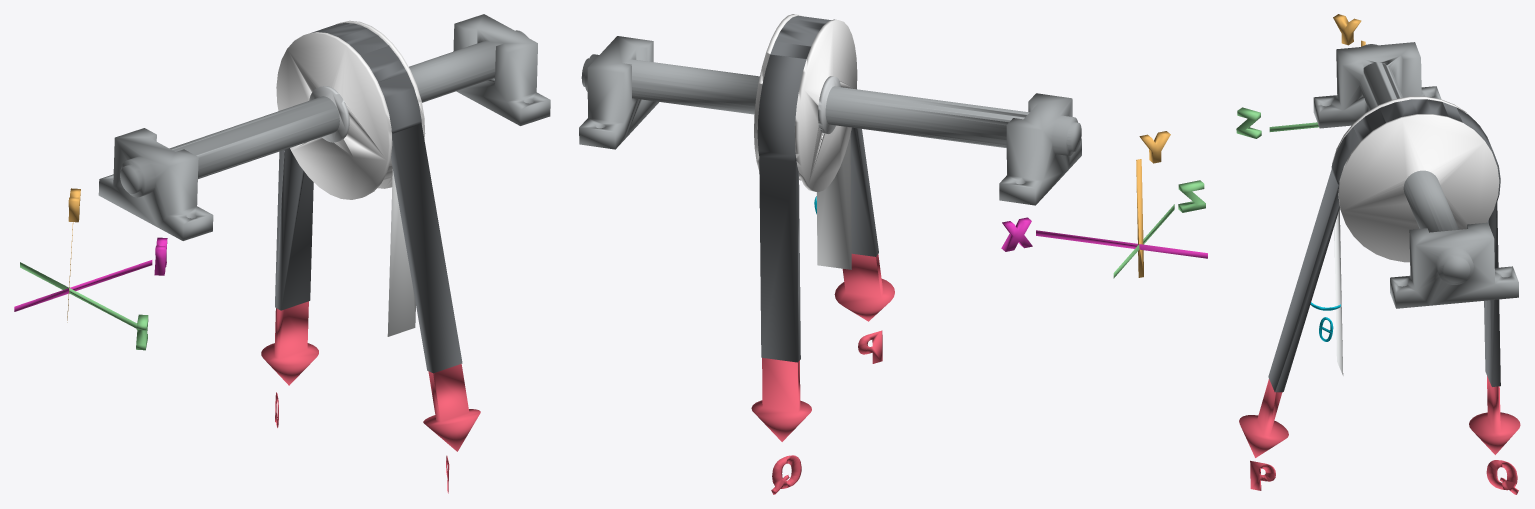
The model's file is U2_SinglePulleyALT.glb.
3 views of the same model, side by side, from view 1: azimuth 30°, elevation 25°; view 2: azimuth 150°, elevation 25°; view 3: azimuth 270°, elevation 25° (orthographic). The views are drawn at different scales.
Visible parts, largest first — view 1: obj_0.001; view 2: obj_0.001; view 3: obj_0.001.
Boxes of the visible parts, x1,y1,x2,y2 form: obj_0.001: (14,14,550,493); obj_0.001: (579,14,1207,494); obj_0.001: (1236,14,1520,494).
Size of the model in its own units: 3.42 by 2.45 by 1.57.
